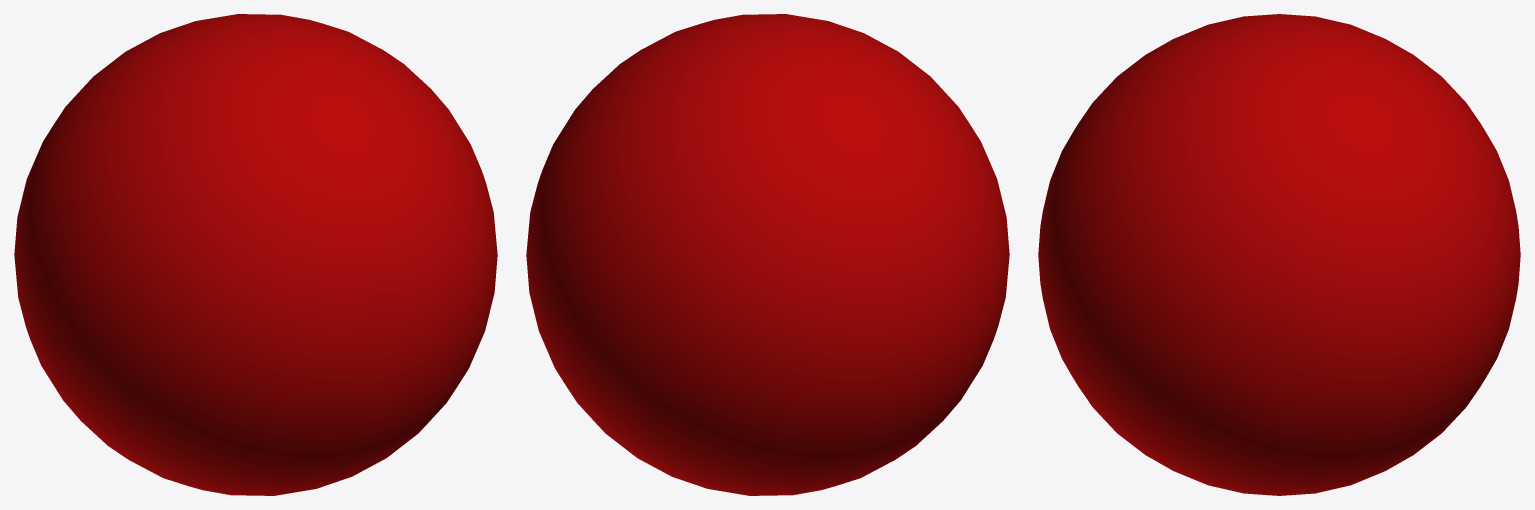
3 views of the same model, side by side, from view 1: azimuth 30°, elevation 25°; view 2: azimuth 150°, elevation 25°; view 3: azimuth 270°, elevation 25° (orthographic).
Parts seen in each view (by area): view 1: 22119.dat; view 2: 22119.dat; view 3: 22119.dat.
Part boxes in pixels (x1,y1,x2,y2): 22119.dat: [14, 14, 497, 495]; 22119.dat: [526, 14, 1009, 495]; 22119.dat: [1038, 14, 1520, 495].
Size of the model in its own units: 0.052 by 0.052 by 0.052.
